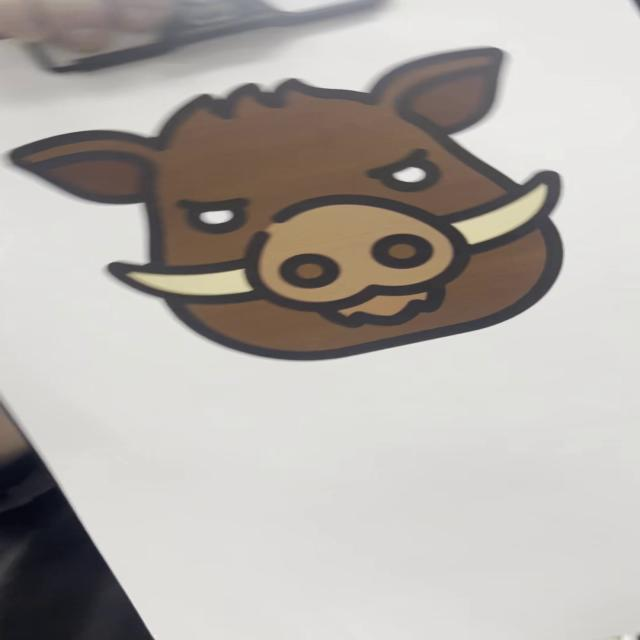animal: (1, 45, 617, 368)
